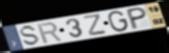3: (65, 18, 84, 39)
G: (107, 10, 131, 33)
P: (127, 6, 148, 31)
R: (36, 21, 64, 44)
S: (20, 24, 42, 47)
Z: (82, 13, 108, 36)
